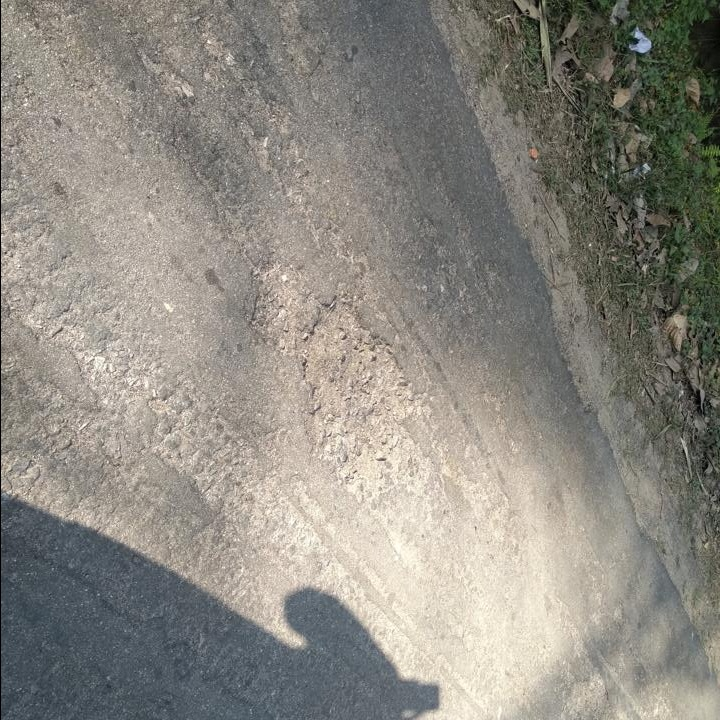pothole: (299, 286, 425, 497), (242, 261, 301, 359)
